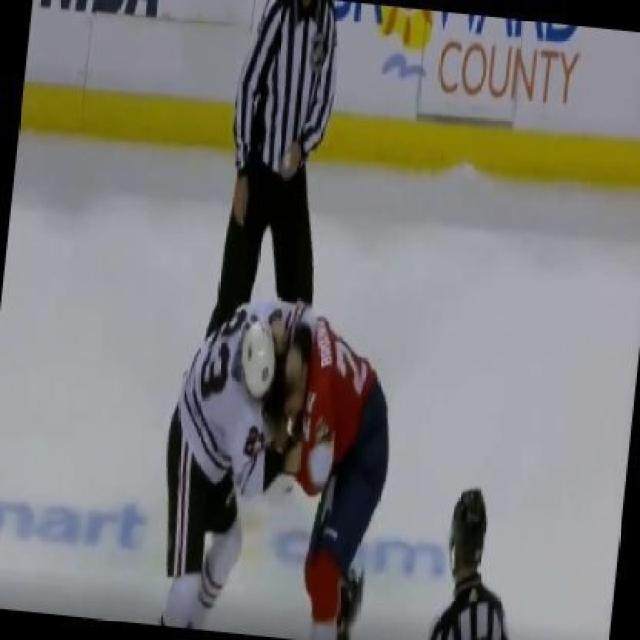fight: (130, 254, 428, 638)
non-fight: (201, 0, 338, 324), (400, 477, 557, 638)
